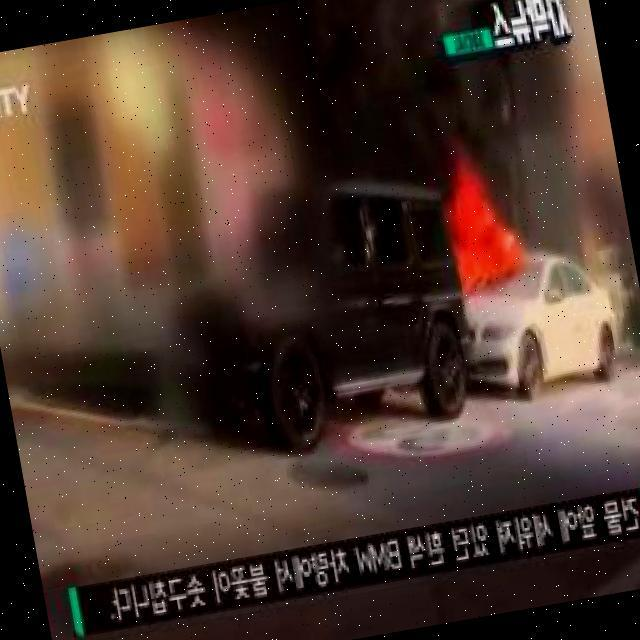Fire: (449, 197, 519, 280)
